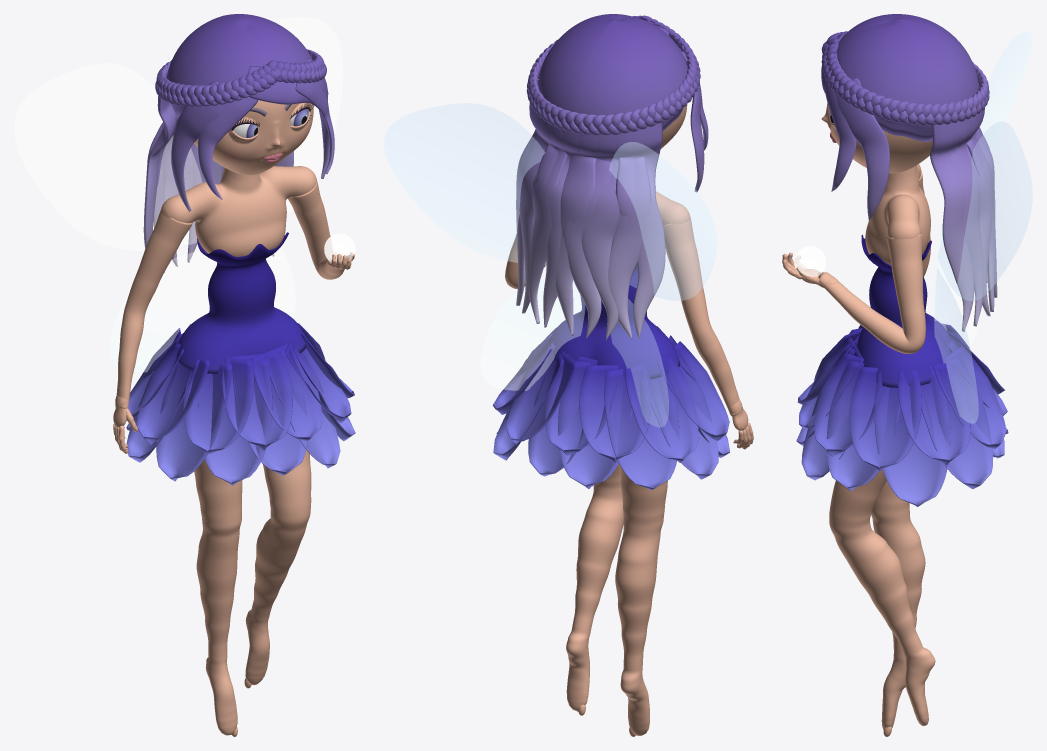
The model's file is fee.glb.
3 views of the same model, side by side, from view 1: azimuth 30°, elevation 25°; view 2: azimuth 150°, elevation 25°; view 3: azimuth 270°, elevation 25° (orthographic). The views are drawn at different scales.
Visible parts, largest first — view 1: Skirt, Wing_Up_R, Bodice, Body, Leg_R, Leg_L, HairCap, Wing_Low_R, Arm_R, Head, Wing_Up_L, Arm_L (+13 smaller); view 2: Skirt, Wing_Up_L, HairCap, Wing_Up_R, Leg_R, Leg_L, Wing_Low_L, Bodice, Lock_Back_8, Arm_R, Lock_Back_7, Lock_Back_6 (+13 smaller); view 3: Skirt, HairCap, Wing_Up_L, Leg_L, Arm_L, Bodice, Leg_R, Lock_Back_0, Body, Wing_Low_L, Wing_Up_R, Lock_Back_1 (+12 smaller).
Part boxes in pixels (left/top/right/bottom): Skirt: left=126, top=323, right=355, bottom=485; Wing_Up_R: left=14, top=63, right=201, bottom=250; Bodice: left=176, top=232, right=306, bottom=373; Body: left=161, top=166, right=316, bottom=256; Leg_R: left=194, top=459, right=242, bottom=735; Leg_L: left=245, top=450, right=311, bottom=685; HairCap: left=166, top=14, right=312, bottom=117; Wing_Low_R: left=109, top=251, right=214, bottom=371; Arm_R: left=115, top=210, right=193, bottom=408; Head: left=194, top=100, right=313, bottom=175; Wing_Up_L: left=273, top=17, right=342, bottom=213; Arm_L: left=287, top=181, right=344, bottom=279; Skirt: left=492, top=326, right=729, bottom=490; Wing_Up_L: left=384, top=103, right=545, bottom=265; HairCap: left=537, top=14, right=687, bottom=131; Wing_Up_R: left=609, top=142, right=716, bottom=300; Leg_R: left=615, top=464, right=667, bottom=735; Leg_L: left=566, top=464, right=623, bottom=710; Wing_Low_L: left=480, top=280, right=584, bottom=390; Bodice: left=547, top=265, right=680, bottom=378; Lock_Back_8: left=615, top=122, right=665, bottom=338; Arm_R: left=663, top=219, right=742, bottom=416; Lock_Back_7: left=608, top=131, right=651, bottom=339; Lock_Back_6: left=581, top=134, right=619, bottom=339; Skirt: left=796, top=323, right=1008, bottom=507; HairCap: left=837, top=14, right=978, bottom=141; Wing_Up_L: left=937, top=121, right=1032, bottom=300; Leg_L: left=829, top=469, right=935, bottom=726; Arm_L: left=817, top=234, right=925, bottom=353; Bodice: left=856, top=234, right=950, bottom=387; Leg_R: left=871, top=481, right=925, bottom=729; Lock_Back_0: left=930, top=121, right=974, bottom=331; Body: left=865, top=164, right=930, bottom=265; Wing_Low_L: left=934, top=268, right=978, bottom=423; Wing_Up_R: left=937, top=32, right=1032, bottom=249; Lock_Back_1: left=949, top=117, right=983, bottom=326.
Bounding box in the file's own units: 0.1207 × 0.25 × 0.0785.
Materials: 11 (1 with a texture image).
